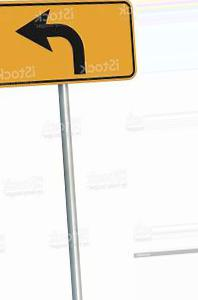left: (1, 1, 141, 83)
